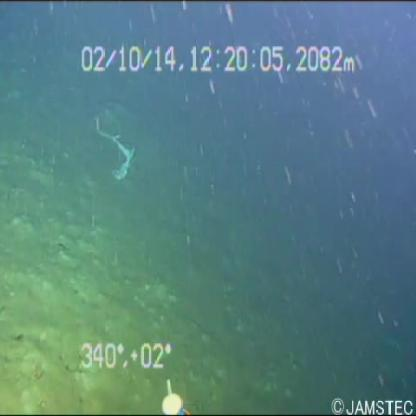Rov: (152, 370, 195, 416)
Rác: (90, 106, 142, 185)
